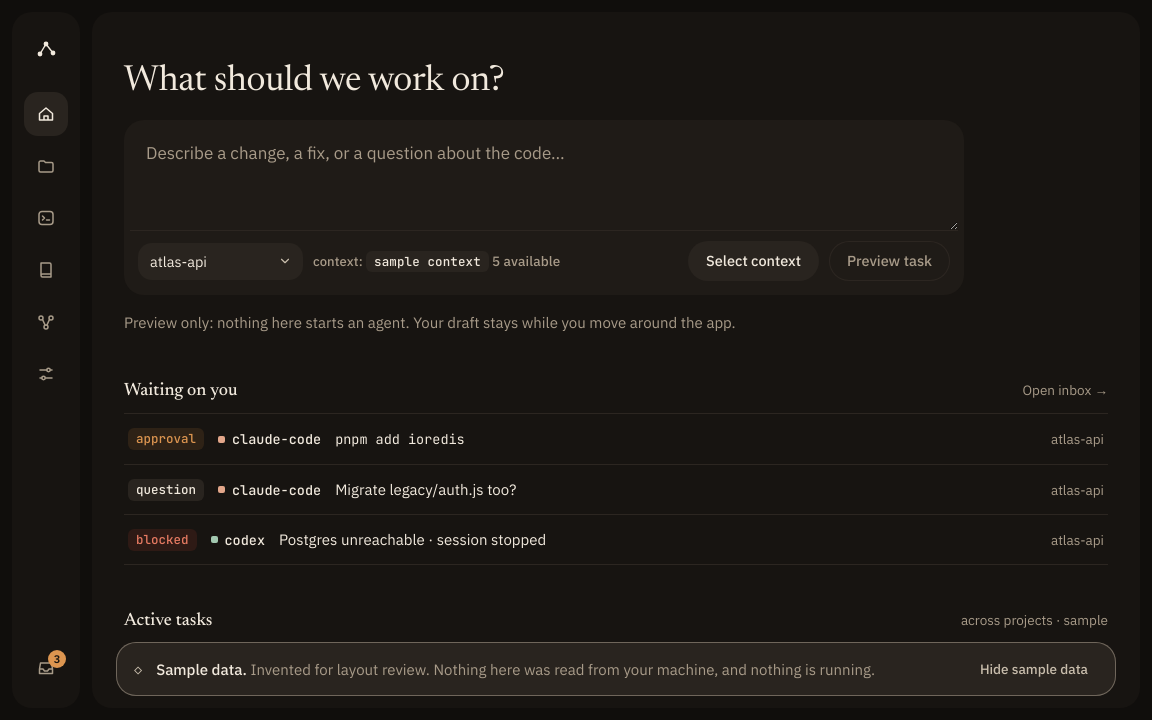
Sessions list › filters by state and project, and combines them with search
The width and height of the screenshot is (1152, 720).
Click the link named "Sessions".
click(46, 218)  # box [36,208,56,228]
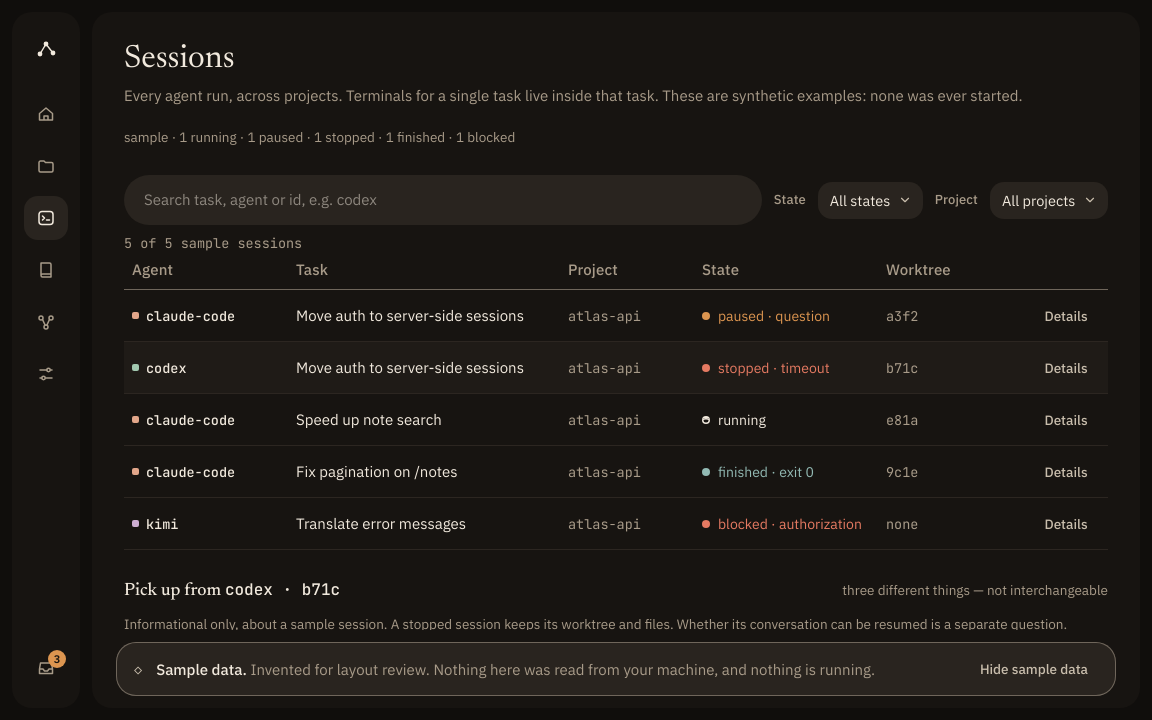
Expected: the heading "Sessions" is shown, [124,43,235,75]
Select "Stopped" in the dropdown labelled "State" at x=870, y=200, box [818,182,923,218]
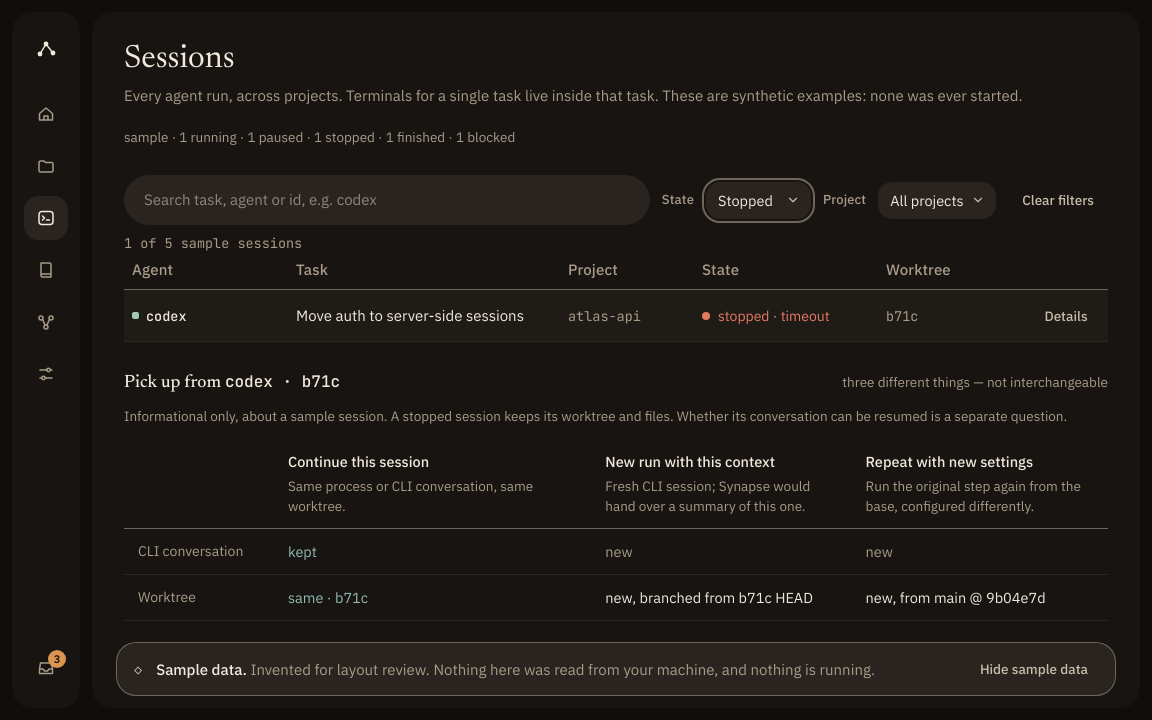
Expected: the number of list items is 1, [124,290,1108,342]
Expected: the text "1 of 5 sample sessions" is shown, [124,234,302,252]
Select "All states" in the dropdown labelled "State" at x=758, y=200, box [706,182,811,218]
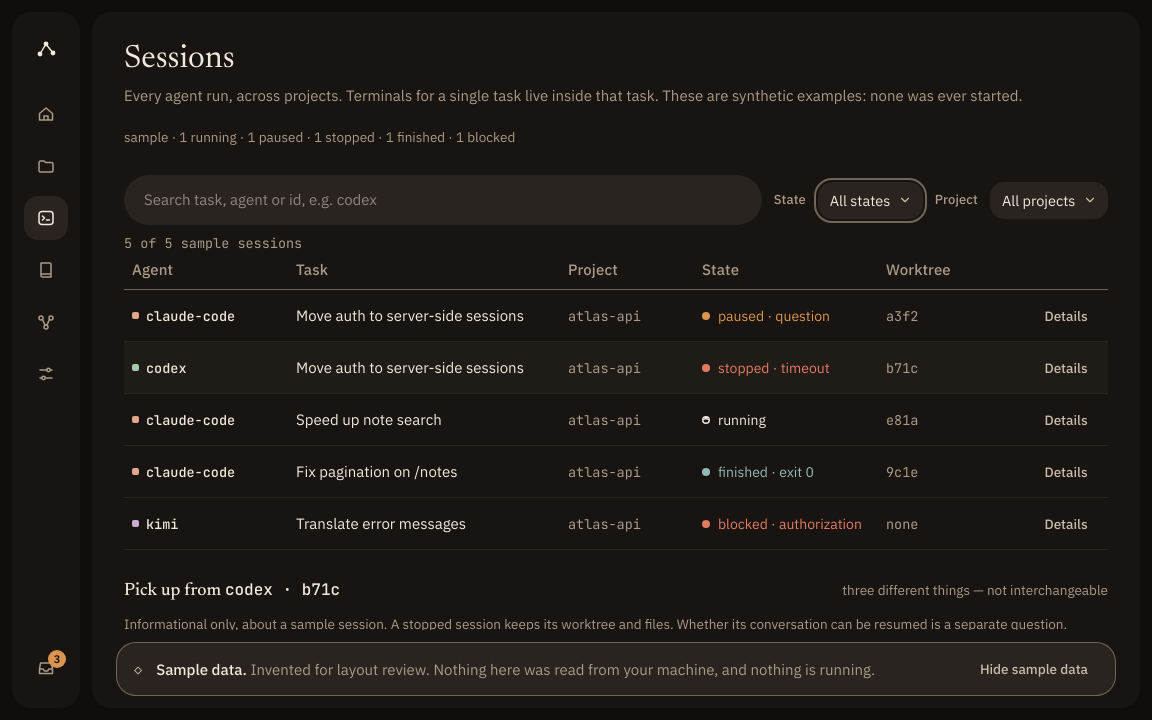
Type "claude-code" into the search field named "Search sessions".
click(450, 200); type("claude-code")  # box [144,181,756,219]
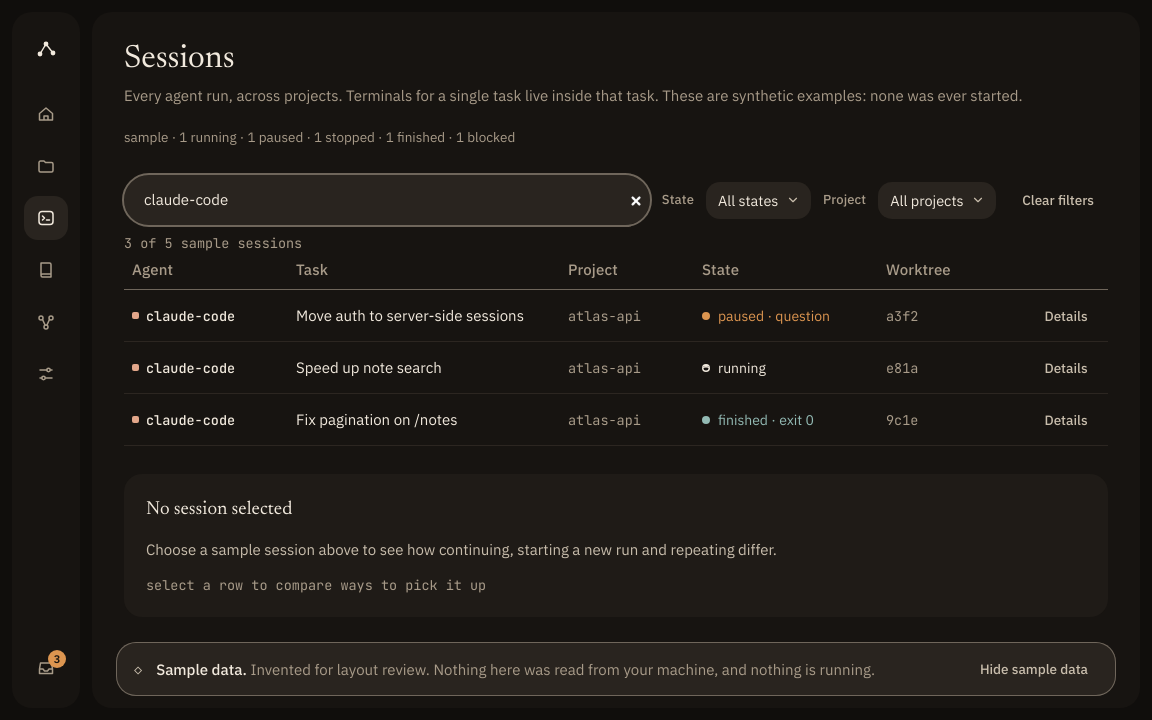
Expected: the number of list items is 3, [124,290,1108,342]; [124,342,1108,394]; [124,394,1108,446]
Select "Finished" in the dropdown labelled "State" at x=758, y=200, box [706,182,811,218]
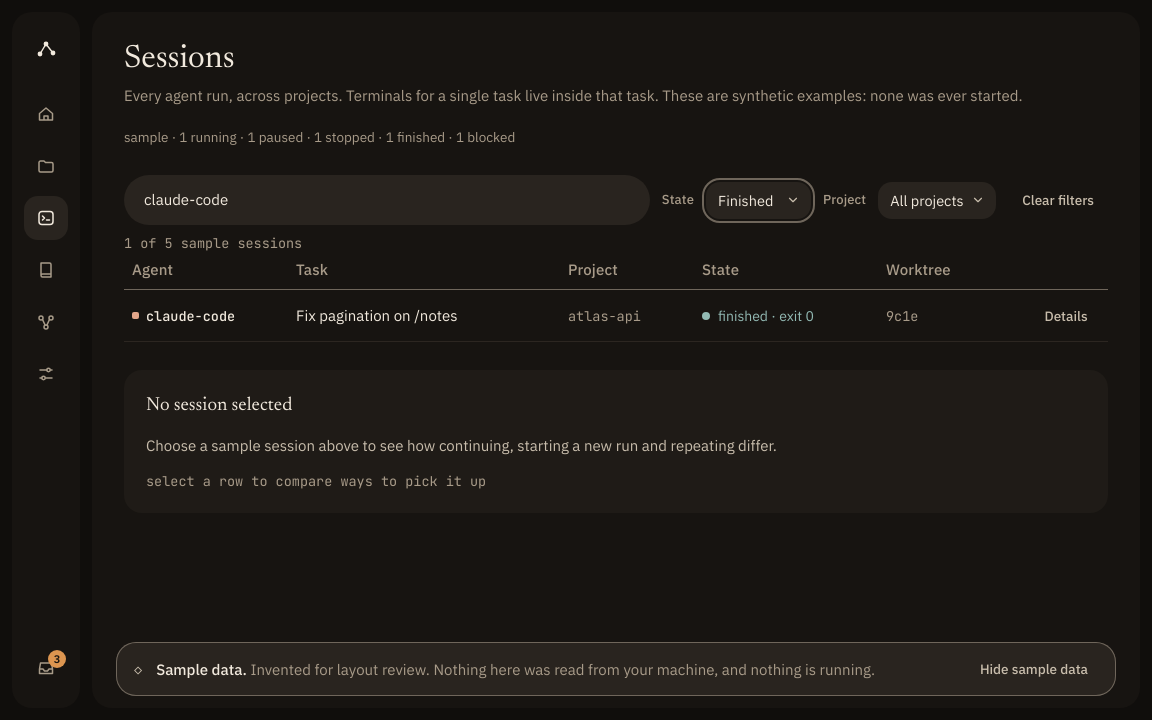
Expected: the text "Fix pagination on /notes" is shown, [296,304,554,327]
Expected: the number of list items is 1, [124,290,1108,342]
